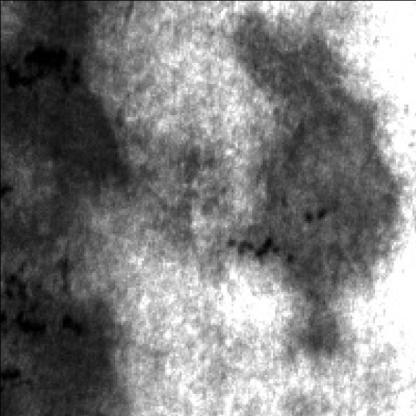patches: (230, 16, 402, 362), (5, 12, 138, 254), (6, 264, 123, 416)
